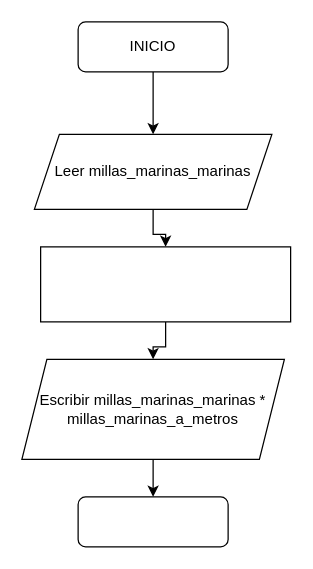
Some shapes in this 313 by 569 pixel diagram are drawn without their labels. Each missing label, with the centre of its shape:
"FIN" belongs at pixel 152 521.
"millas_marinas_a_metros = 1 * 1.852" belongs at pixel 165 284.
